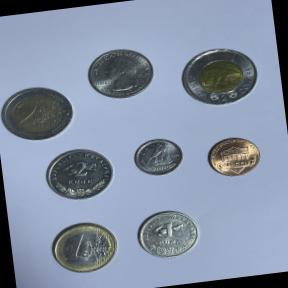coin: (174, 40, 266, 114), (0, 79, 80, 149), (39, 142, 120, 208), (82, 43, 161, 106), (44, 216, 124, 278), (202, 131, 267, 182), (130, 133, 189, 182)
